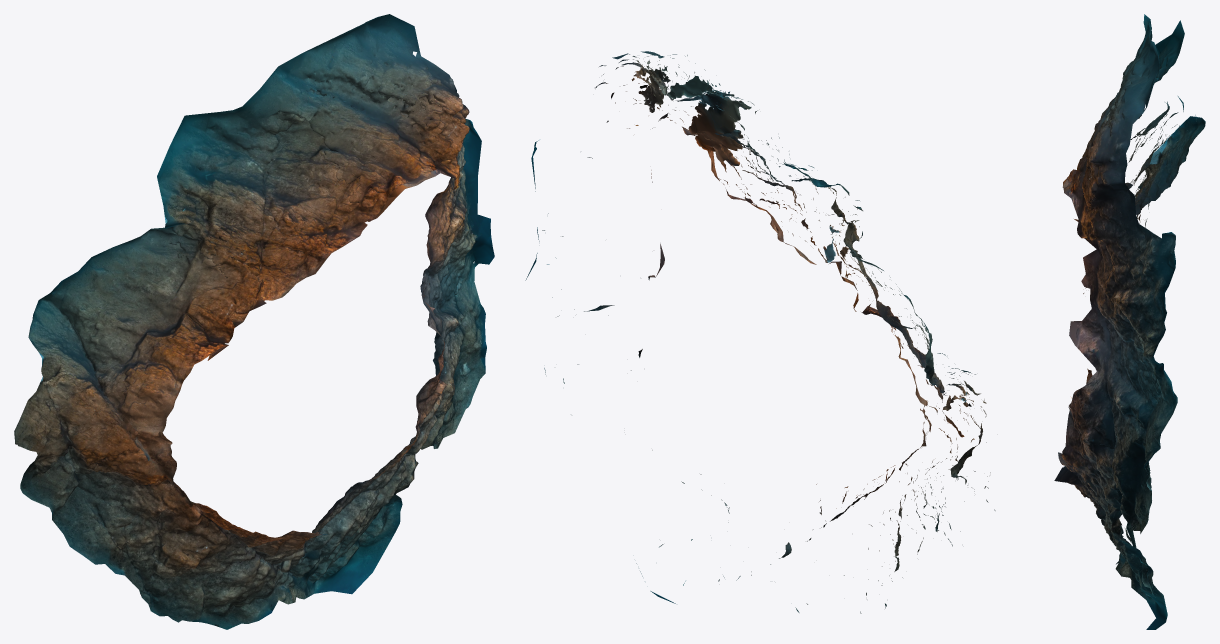
Rendered from zone3_3d.glb.
3 renders of one model, left to right at view 1: azimuth 30°, elevation 25°; view 2: azimuth 150°, elevation 25°; view 3: azimuth 270°, elevation 25°, orthographic. The views are drawn at different scales.
Visible parts, largest first — view 1: Node; view 2: Node; view 3: Node.
Part boxes in pixels (x1=…): Node: x1=14, y1=14, x2=494, y2=629; Node: x1=525, y1=51, x2=995, y2=613; Node: x1=1054, y1=14, x2=1205, y2=629.
Size of the model in its own units: 51.54 by 58.77 by 13.43.
Materials: 1 (1 with a texture image).
